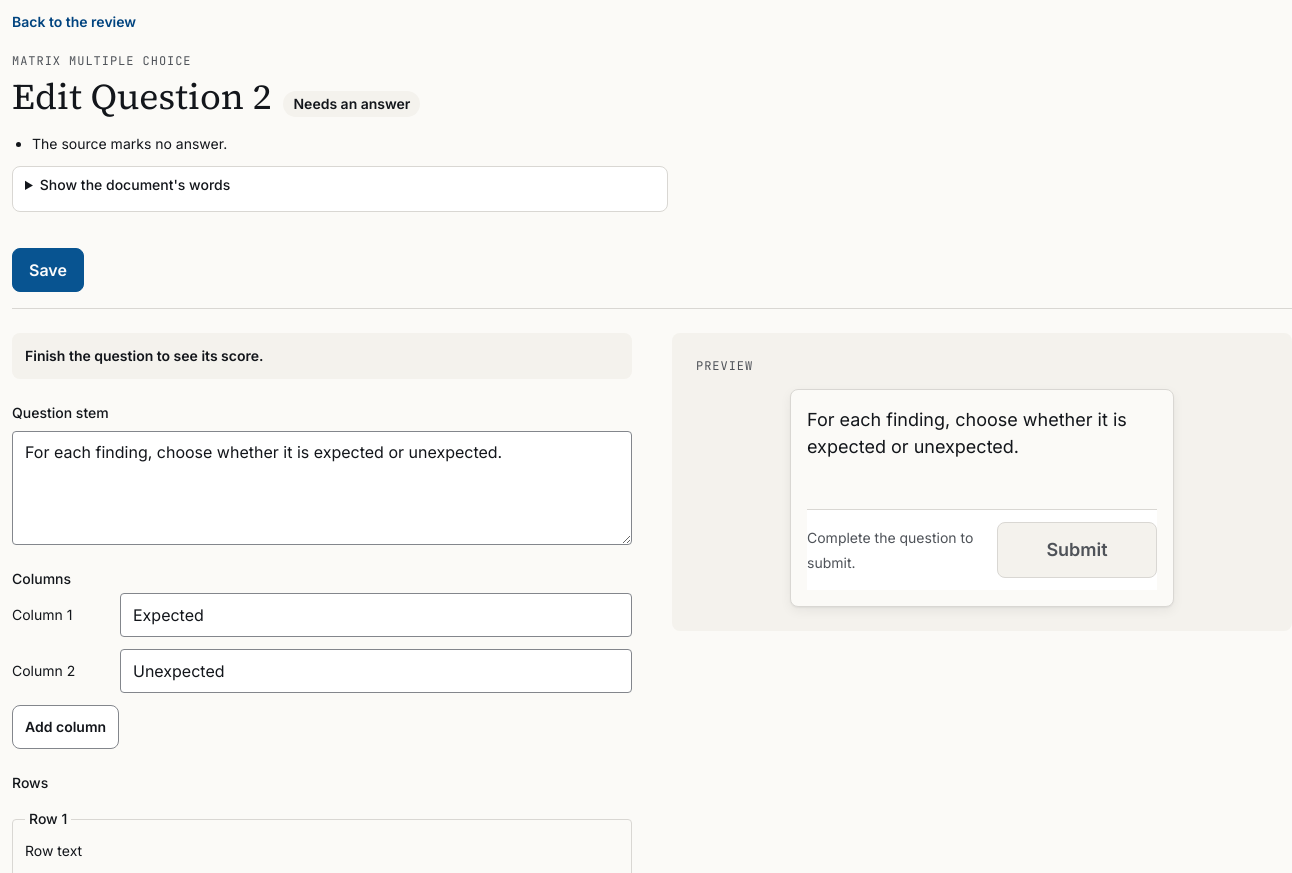
Test: AiImportEntryEditor › shows a refusal in the server's words
Click the button "Save".
click(48, 270)  # box [12,248,84,292]
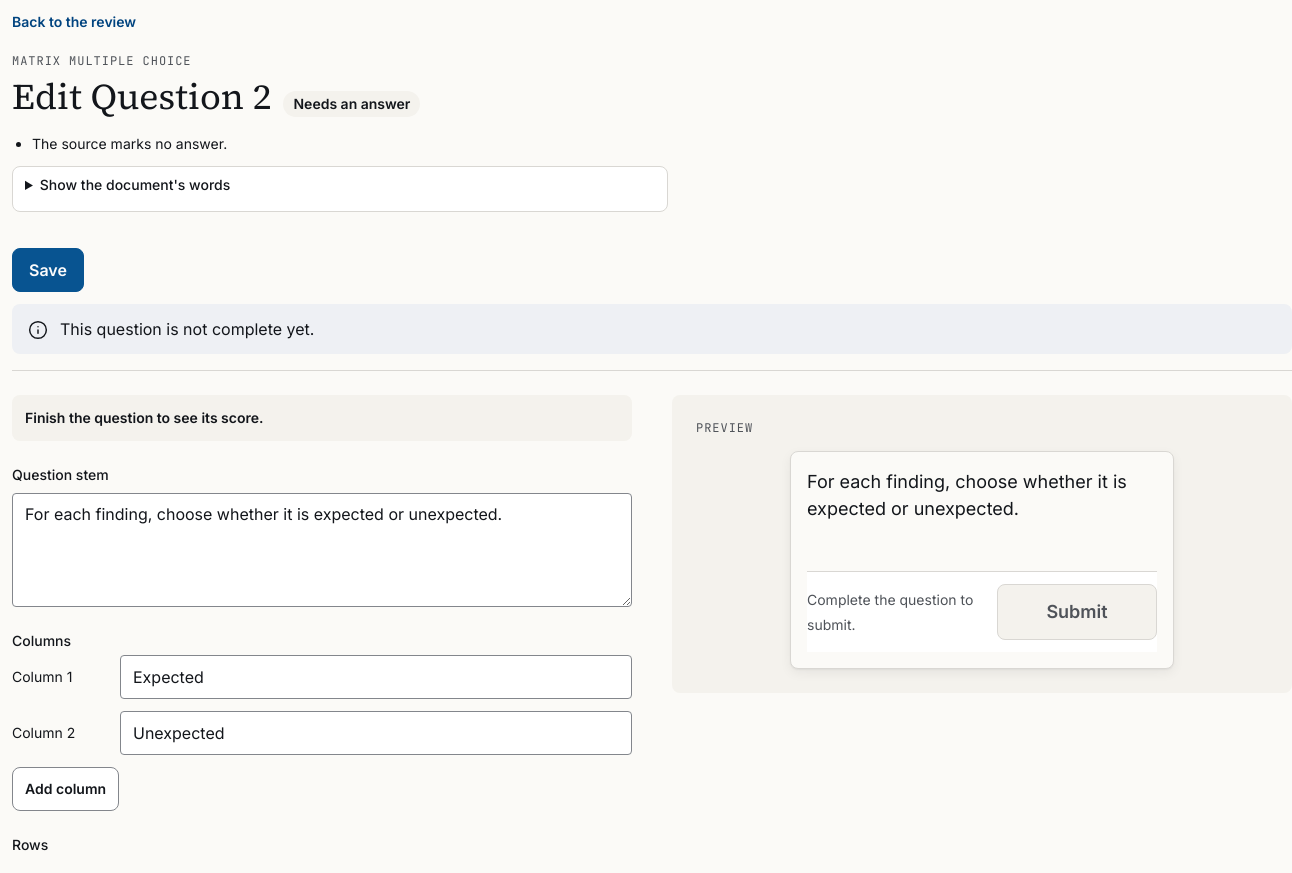
Now the message reads "This question is not complete yet.", box [60,319,314,339]
